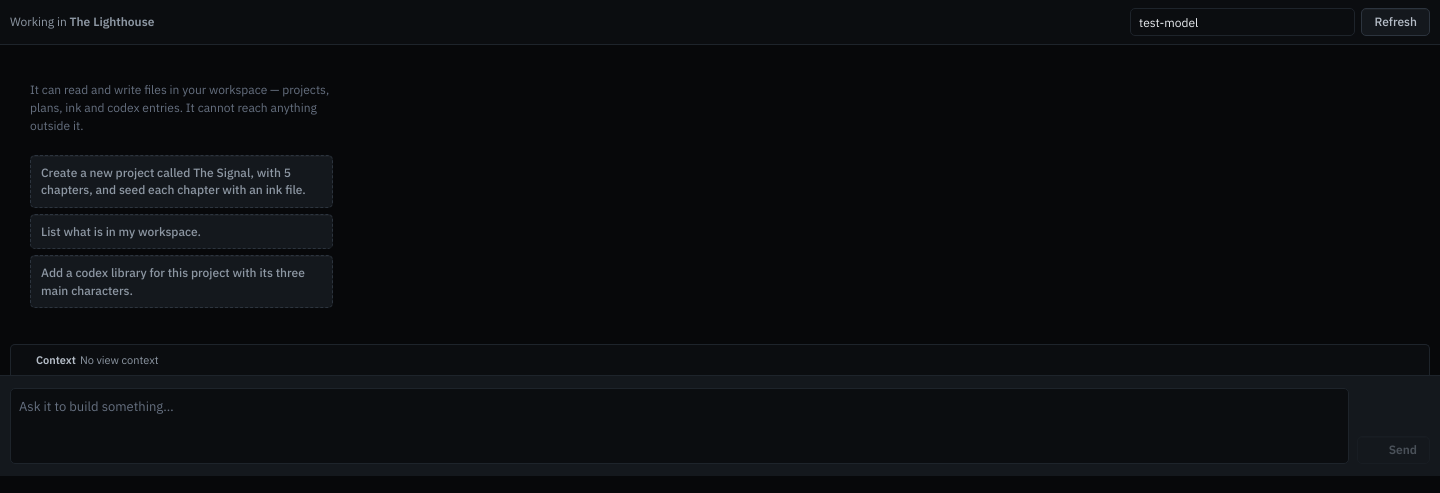
it: AssistantPanel › sends the message and shows the reply
This screenshot has width=1440, height=493.
Type "Make me a project." into the text box named "Message the assistant" at (679, 426), box x1=10 y1=388 x2=1349 y2=464
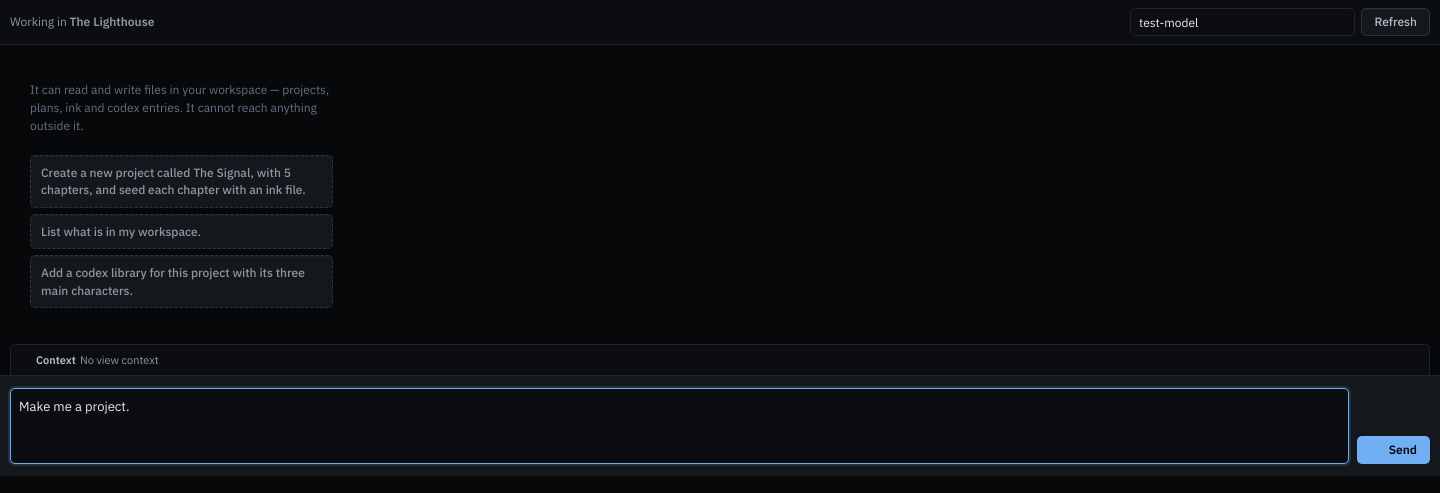
Click the button "Send" at (1393, 450), box x1=1357 y1=436 x2=1430 y2=464
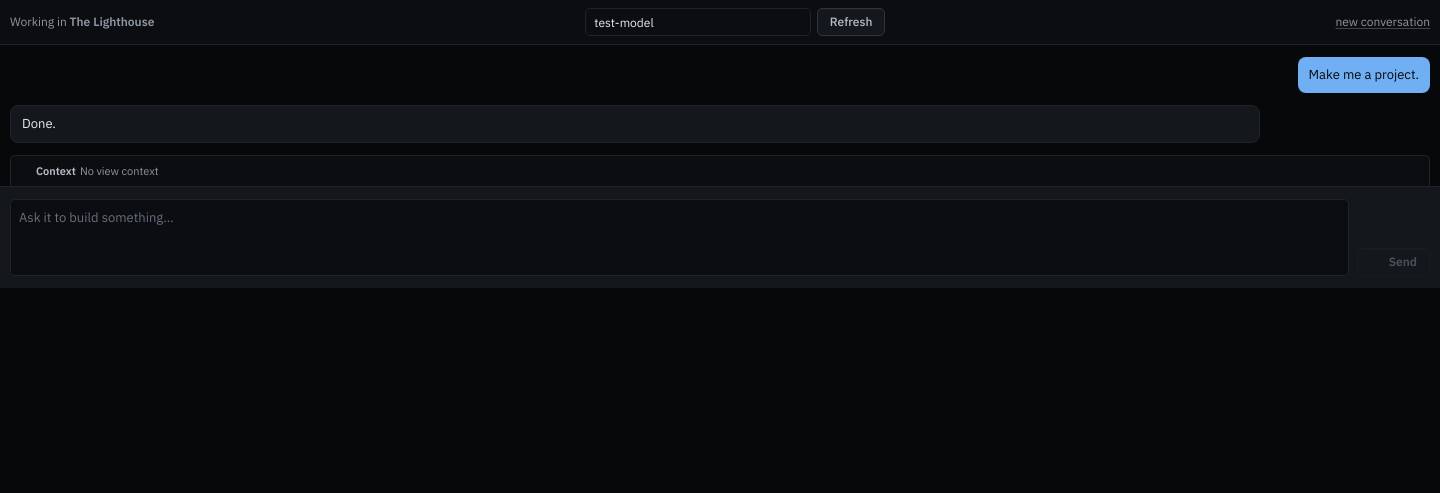
Check: the text "Done." is shown, box x1=10 y1=105 x2=1260 y2=143
